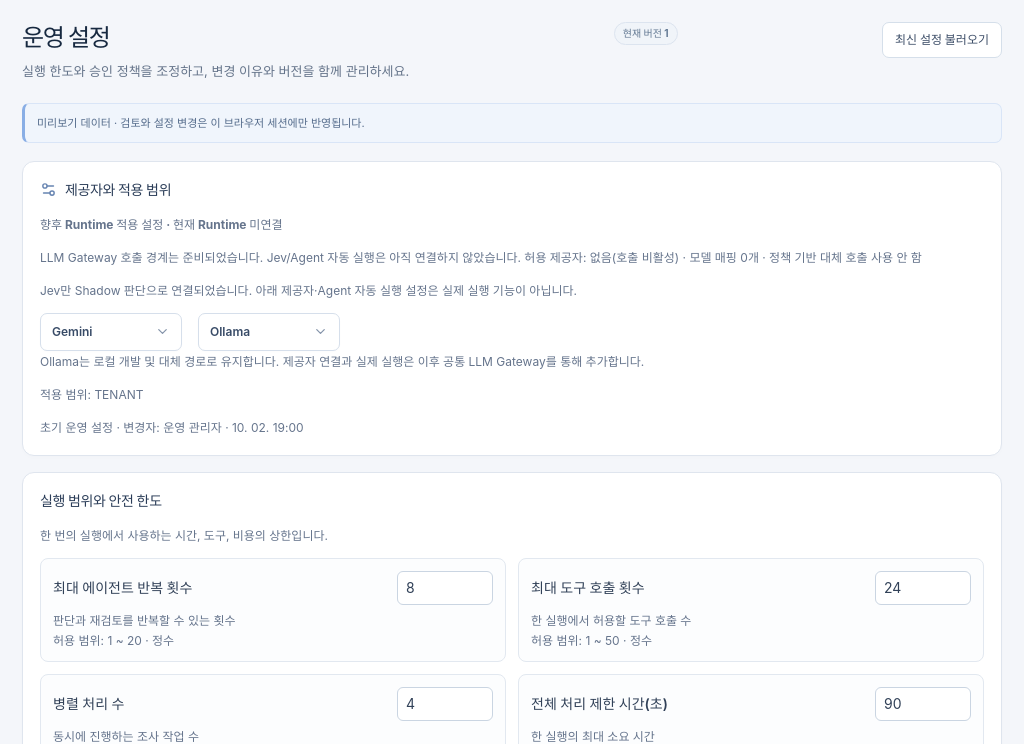
Scenario: 운영 설정 › 저장하지 않은 숫자와 승인 정책을 함께 취소한다
Replace the text in the number field labelled "최대 에이전트 반복 횟수" with "12": (445, 588) [397,571,493,605]
(page scrolled)
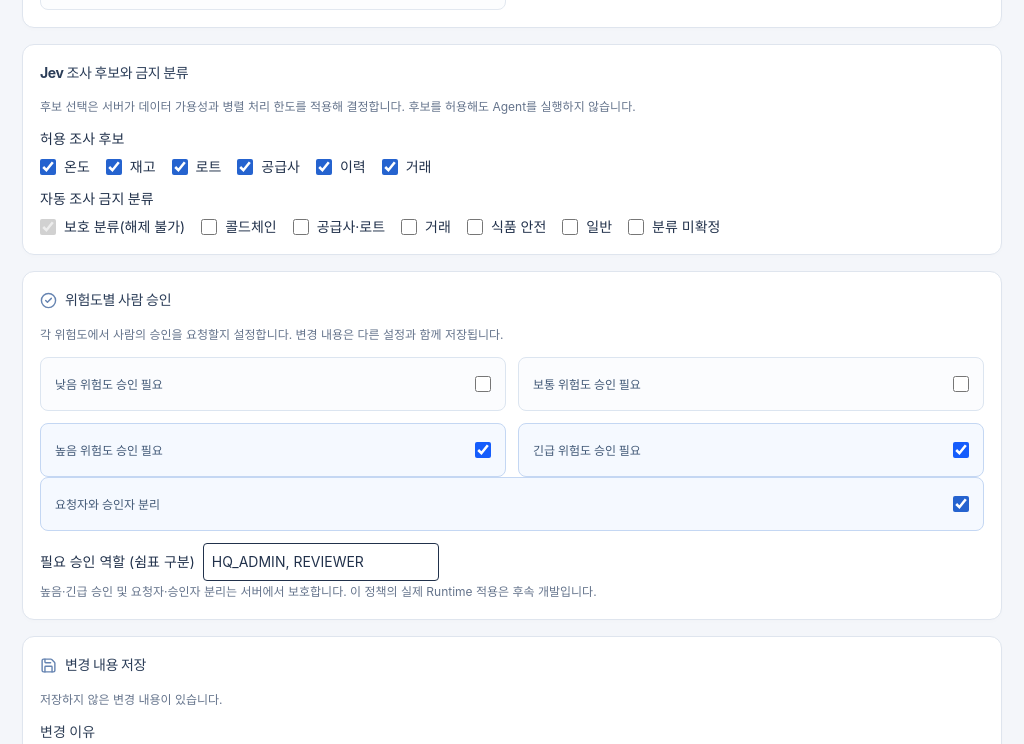
Click the checkbox labelled "낮음 위험도 승인 필요": (483, 384) [475,376,491,392]
(page scrolled)
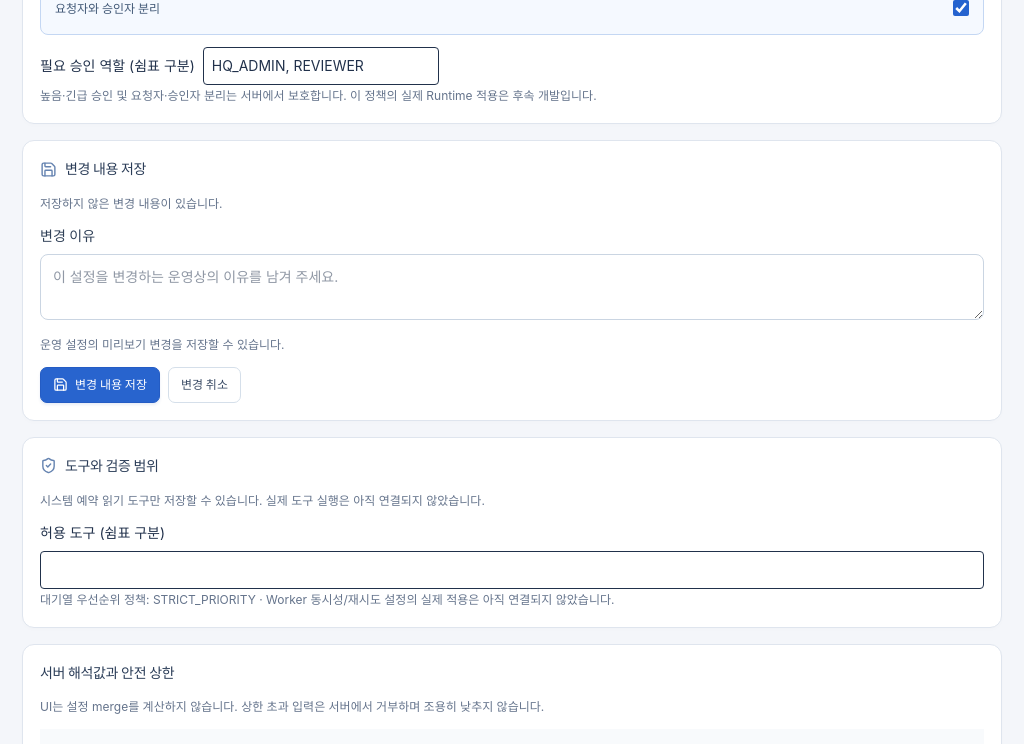
Click the button "변경 취소": (204, 385) [168,367,241,403]
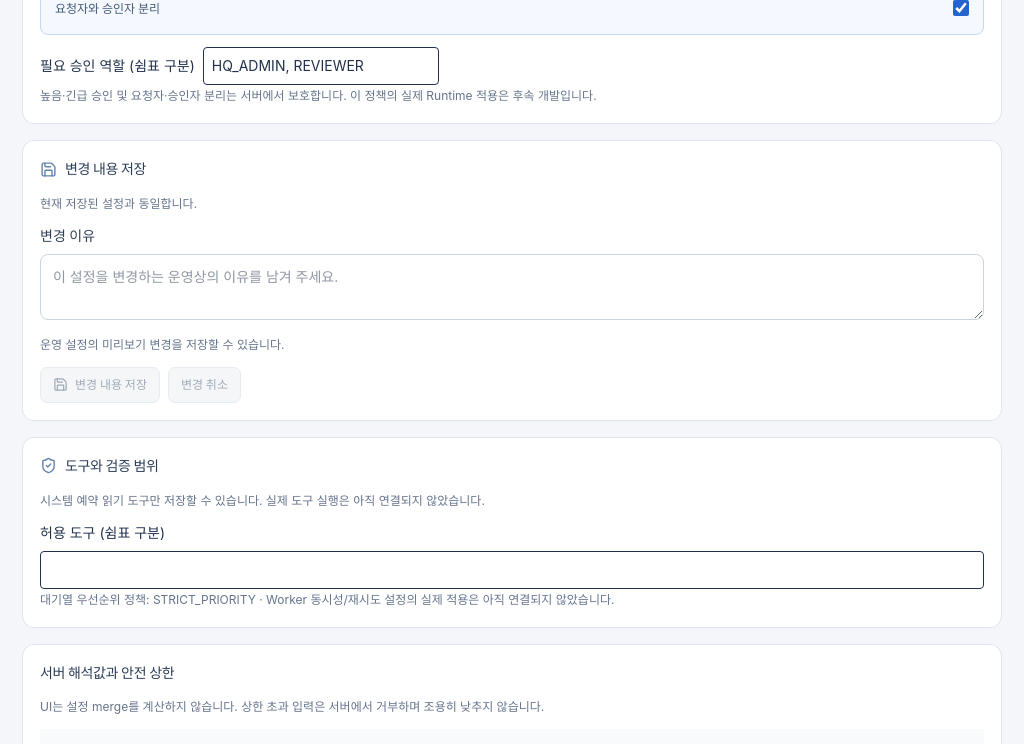
Check: the button "변경 내용 저장" is disabled, box [40,367,160,403]
